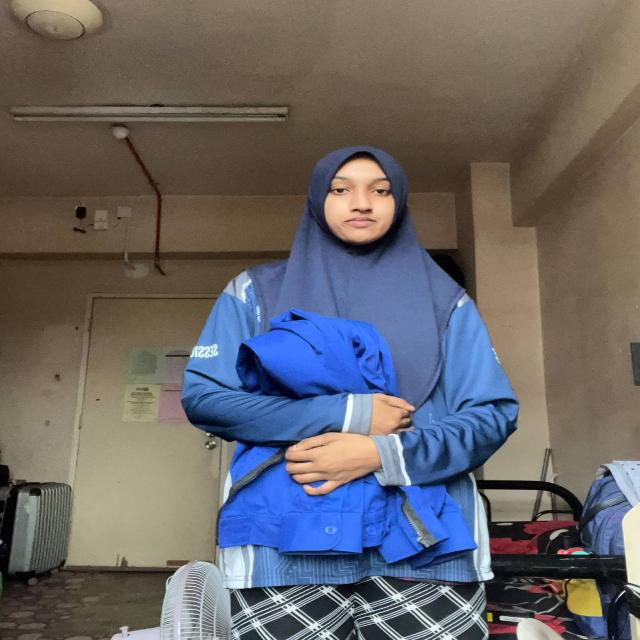person_without_labcoat: (182, 146, 517, 640)
